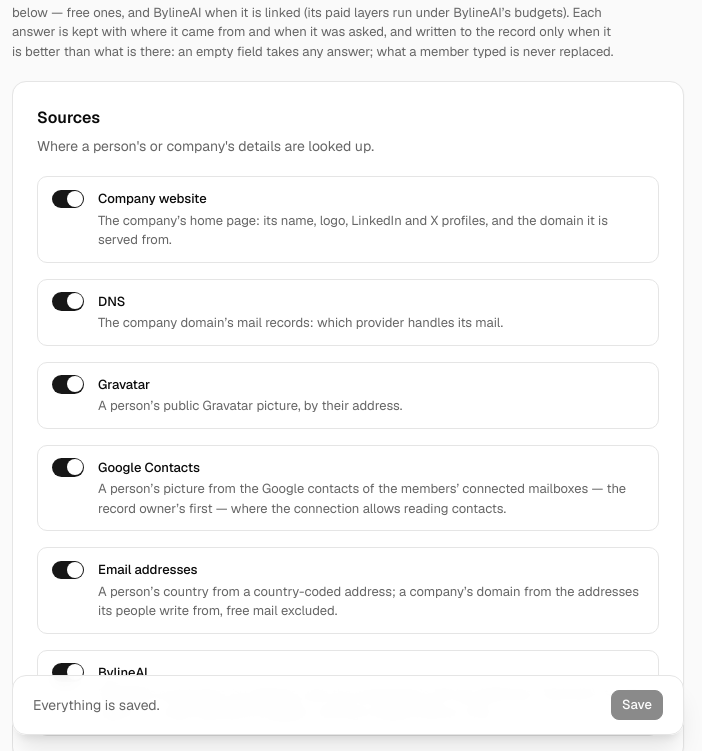
Scenario: P4-2 FR-CRMS-15 Settings → Enrichment › turns a source off and changes the age in one save; the server’s field error shows at the field
This screenshot has width=702, height=751.
Step 1. Click the 3rd switch named "Gravatar" → {"x": 68, "y": 384}, box [50, 374, 86, 394]
(page scrolled)
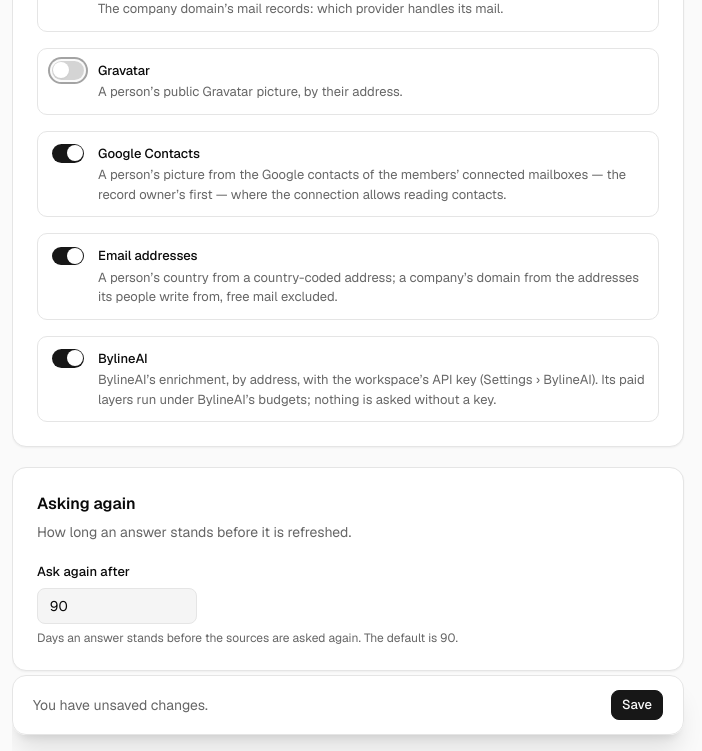
Step 2. Replace the text in the number field labelled "Ask again after" with "400" → {"x": 117, "y": 606}, box [37, 588, 197, 624]
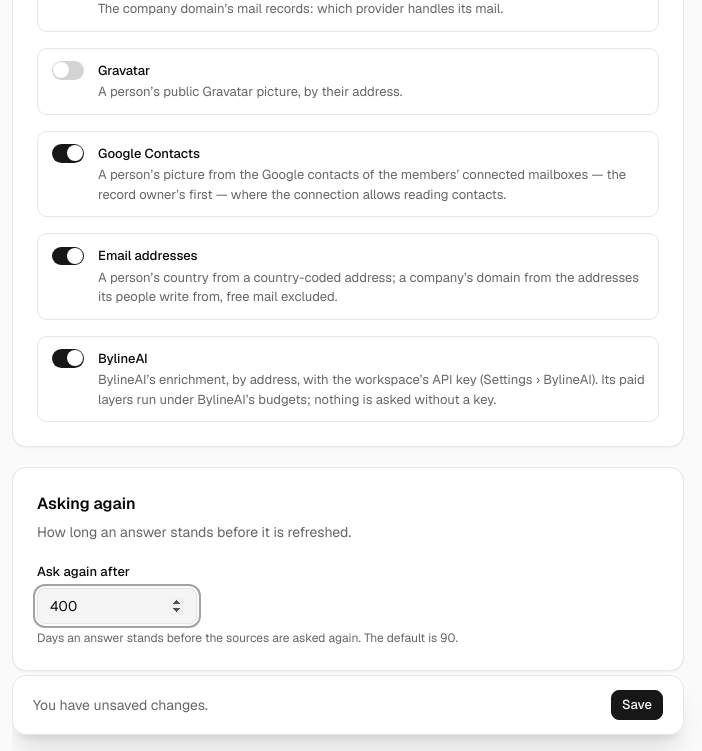
Step 3. Click the button "Save" → {"x": 637, "y": 705}, box [611, 690, 663, 720]
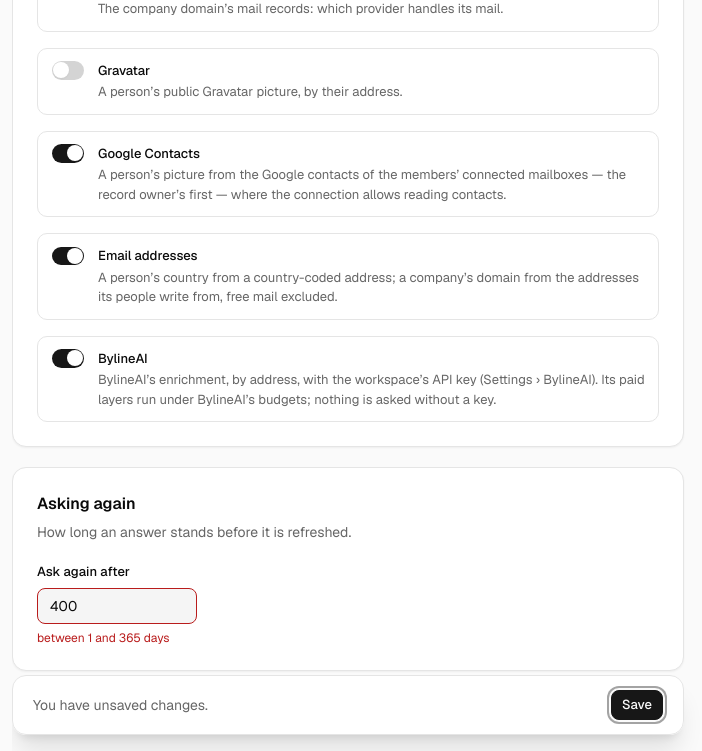
Check: the text "between 1 and 365 days" is shown, box [37, 630, 170, 646]
Step 4. Replace the text in the number field labelled "Ask again after" with "30" → {"x": 117, "y": 606}, box [37, 588, 197, 624]
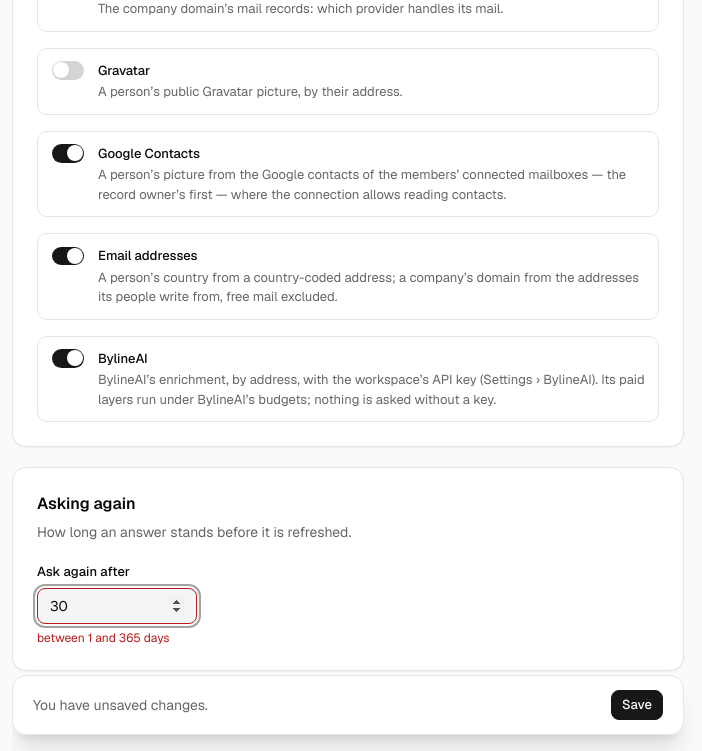
Step 5. Click the button "Save" → {"x": 637, "y": 705}, box [611, 690, 663, 720]
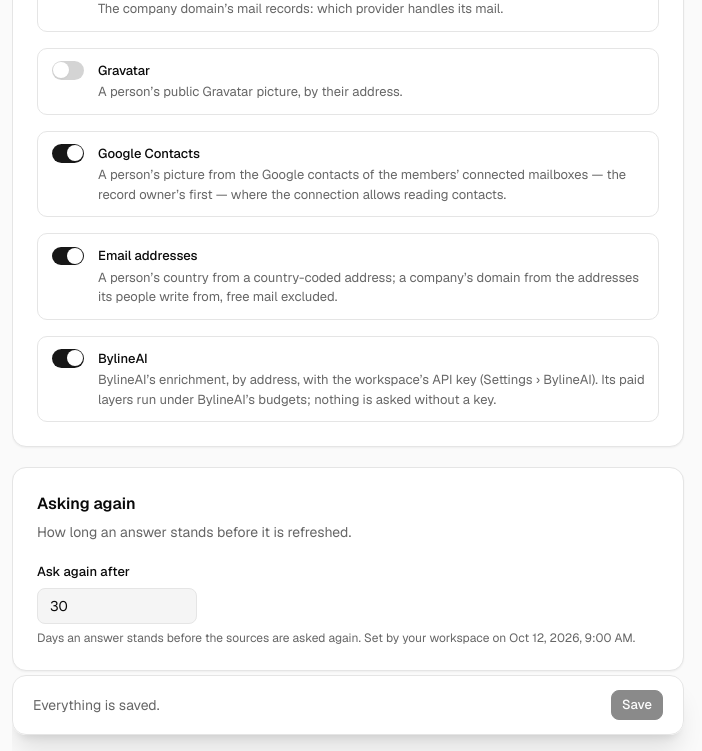
Check: the 2nd switch named "Gravatar" is not checked, box [50, 60, 86, 80]
Check: the number field labelled "Ask again after" holds "30", box [37, 588, 197, 624]
